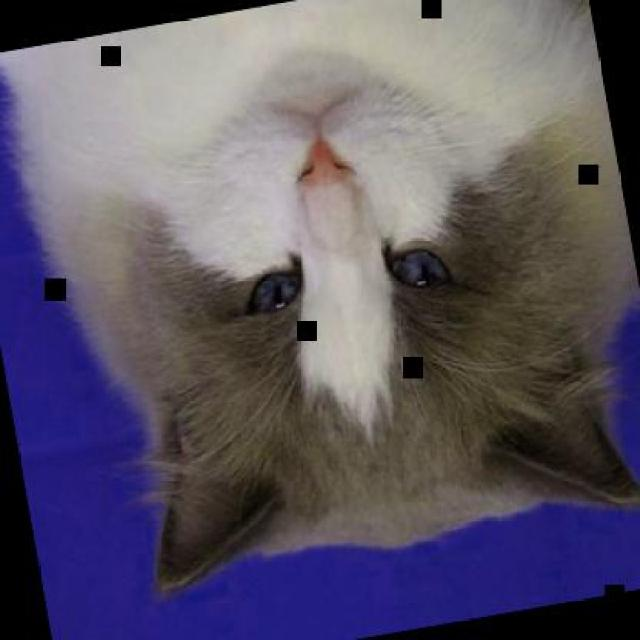cat: (0, 0, 638, 615)
